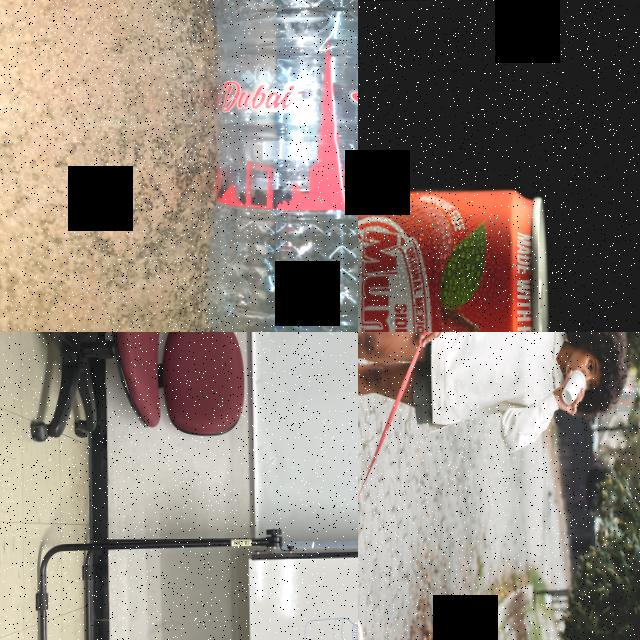bottle: (177, 0, 358, 332)
can: (358, 184, 551, 332)
cup: (559, 368, 586, 406)
